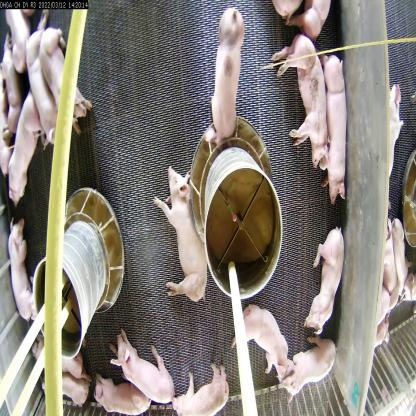Pig: (274, 32, 330, 168), (151, 160, 205, 300), (110, 308, 176, 406), (211, 0, 248, 147), (42, 25, 90, 128), (318, 50, 350, 192), (304, 226, 340, 350), (233, 298, 289, 377), (1, 217, 37, 338), (274, 340, 342, 402), (160, 363, 235, 416), (2, 86, 35, 200), (30, 34, 58, 148), (88, 375, 160, 415)
